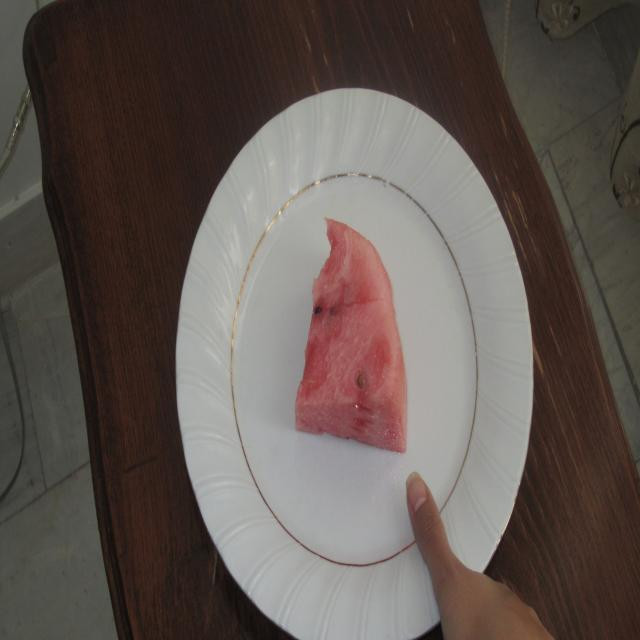Watermelon: (292, 214, 420, 463)
